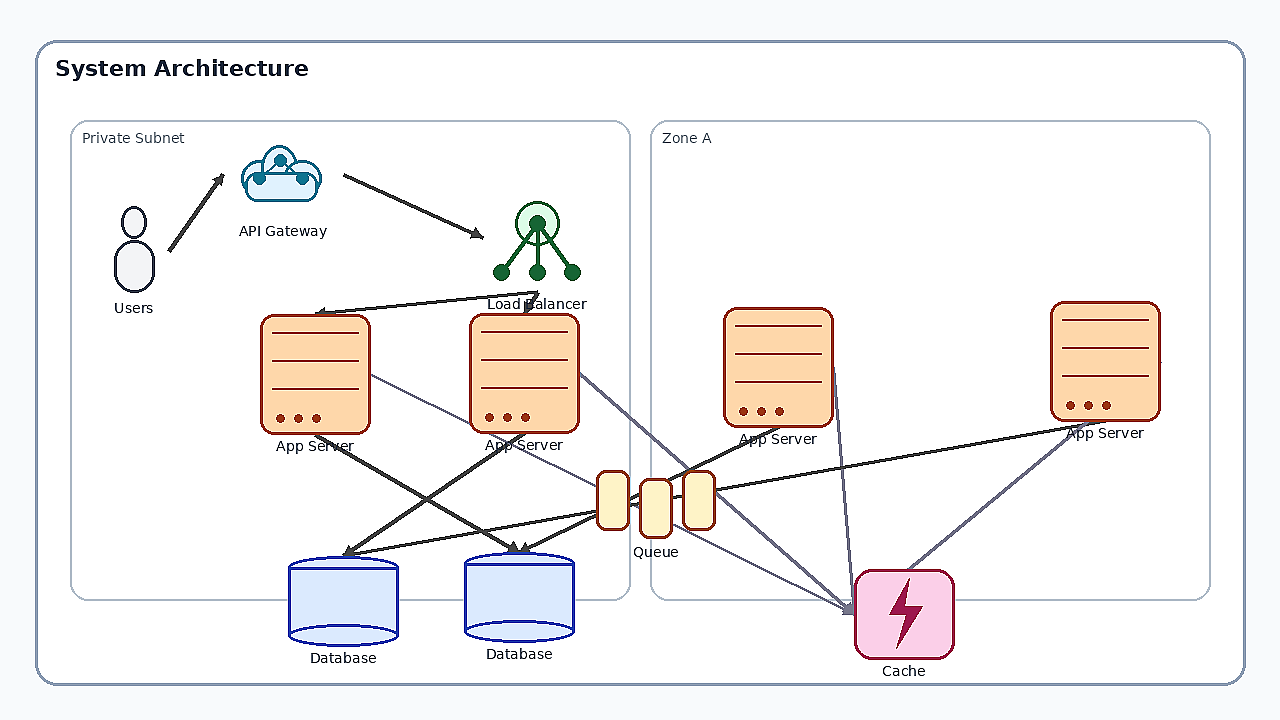API Gateway: (223, 129, 343, 219)
Application Server: (469, 313, 579, 433), (260, 314, 370, 434), (723, 307, 833, 427), (1050, 301, 1160, 421)
Cache: (854, 569, 954, 659)
Database: (288, 556, 398, 646), (464, 552, 574, 642)
Load Balancer: (482, 182, 592, 292)
Message Queue: (596, 470, 716, 540)
User: (99, 206, 169, 296)
